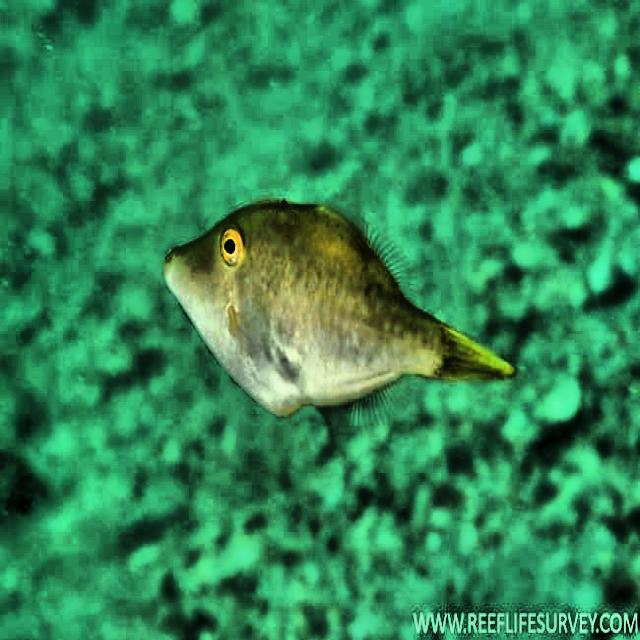fish: (162, 196, 516, 428)
